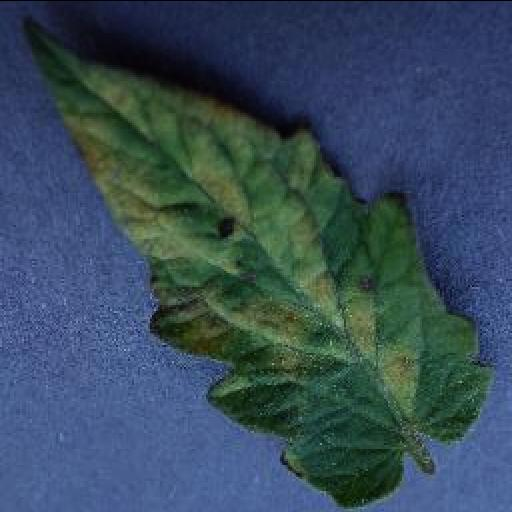disease_tomato: (21, 14, 495, 508)
